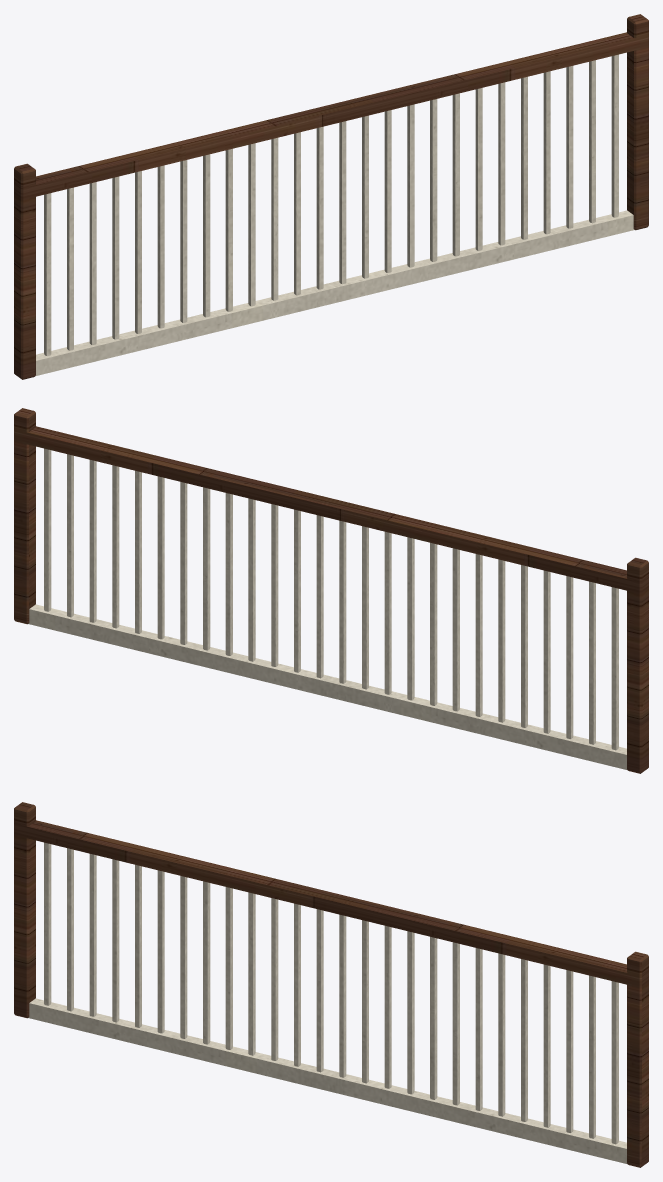
Rendered from rail_326.glb.
The picture shows the model from 3 angles, top to bottom: view 1: azimuth 30°, elevation 25°; view 2: azimuth 150°, elevation 25°; view 3: azimuth 330°, elevation 25°; orthographic projection.
Visible parts, largest first — view 1: rail_326_trim, rail_326_wood; view 2: rail_326_trim, rail_326_wood; view 3: rail_326_trim, rail_326_wood.
Part boxes in pixels (left/top/right/bottom): rail_326_trim: left=35, top=54, right=634, bottom=376; rail_326_wood: left=14, top=14, right=648, bottom=379; rail_326_trim: left=28, top=448, right=627, bottom=770; rail_326_wood: left=14, top=408, right=648, bottom=773; rail_326_trim: left=28, top=842, right=627, bottom=1164; rail_326_wood: left=14, top=802, right=648, bottom=1167.
Size of the model in its own units: 3.34 by 1.06 by 0.08.
2 materials, 2 textured.
